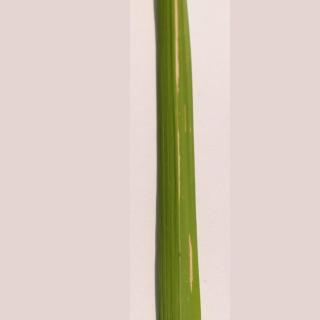Hawar-Daun: (159, 128, 203, 299), (161, 0, 191, 102)
